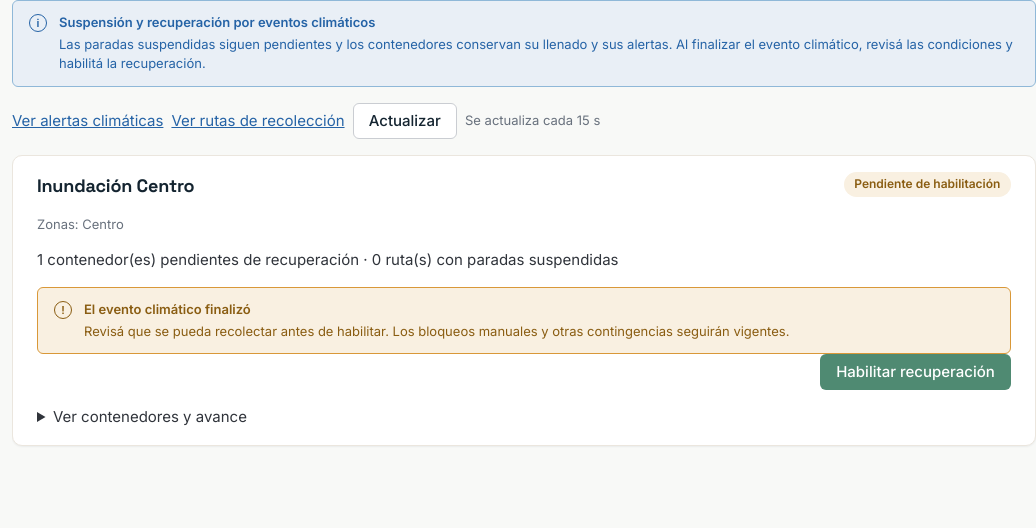
Test: Inundaciones › habilita la recuperacion luego de la finalizacion, aun sin simulador
Click the button "Habilitar recuperación".
click(916, 372)  # box [820,354,1011,390]
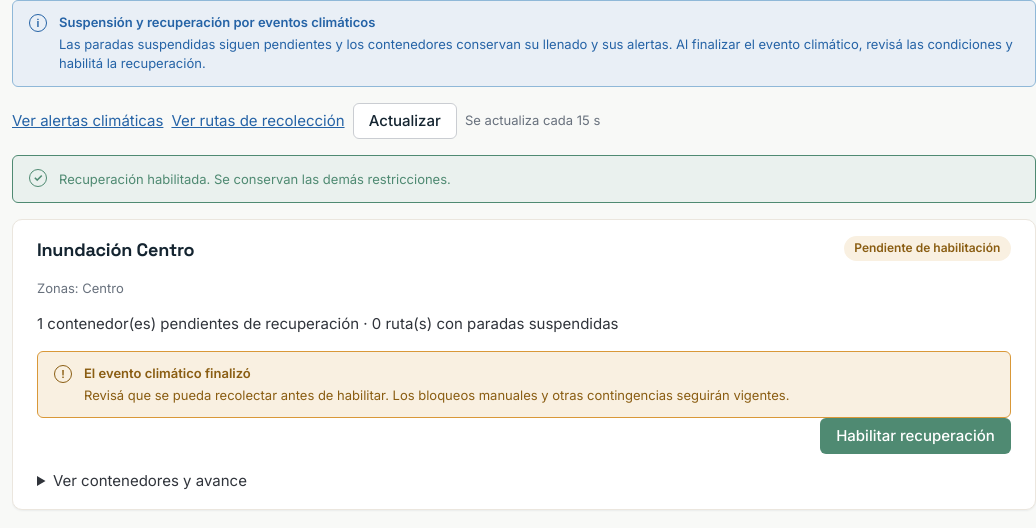
Expected: the text "Se conservan las demás restricciones" is shown, [59,171,451,187]
